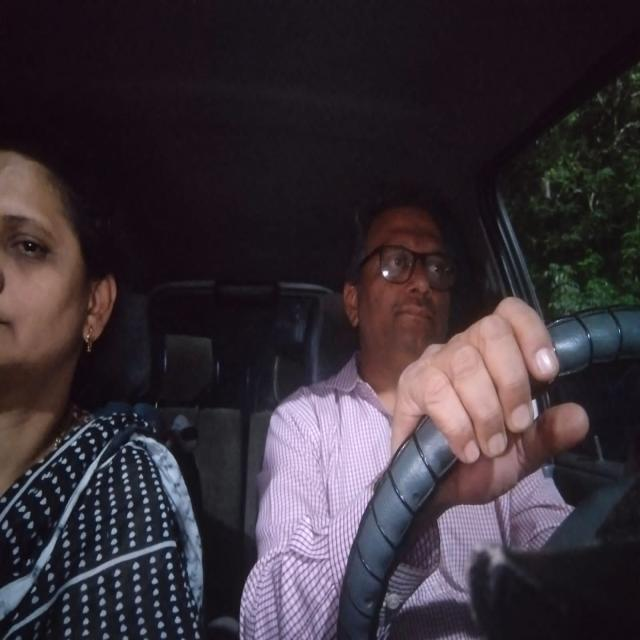person: (1, 128, 127, 420), (342, 180, 474, 403)
